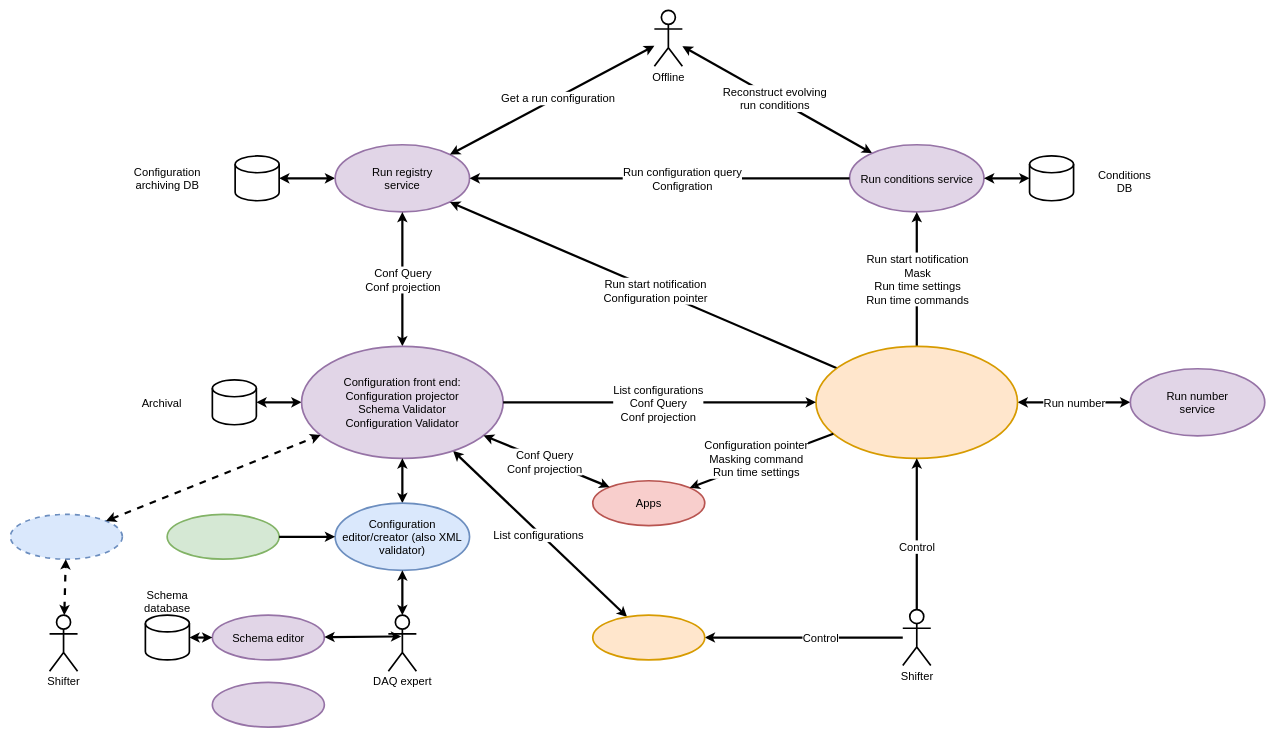
Some shapes in this 1275 by 738 pixel diagram are drawn without their labels. Here are the shapes that lost their labels. From the top down, the centre of each, then its label:
pixel 916 402: Run Contro l: Apply mask and run settings Send commands Validate configuration?
pixel 66 536: RunConf-UI
pixel 223 536: Configuration generator tools
pixel 648 637: Session Manager Service
pixel 268 704: Configuration validator
